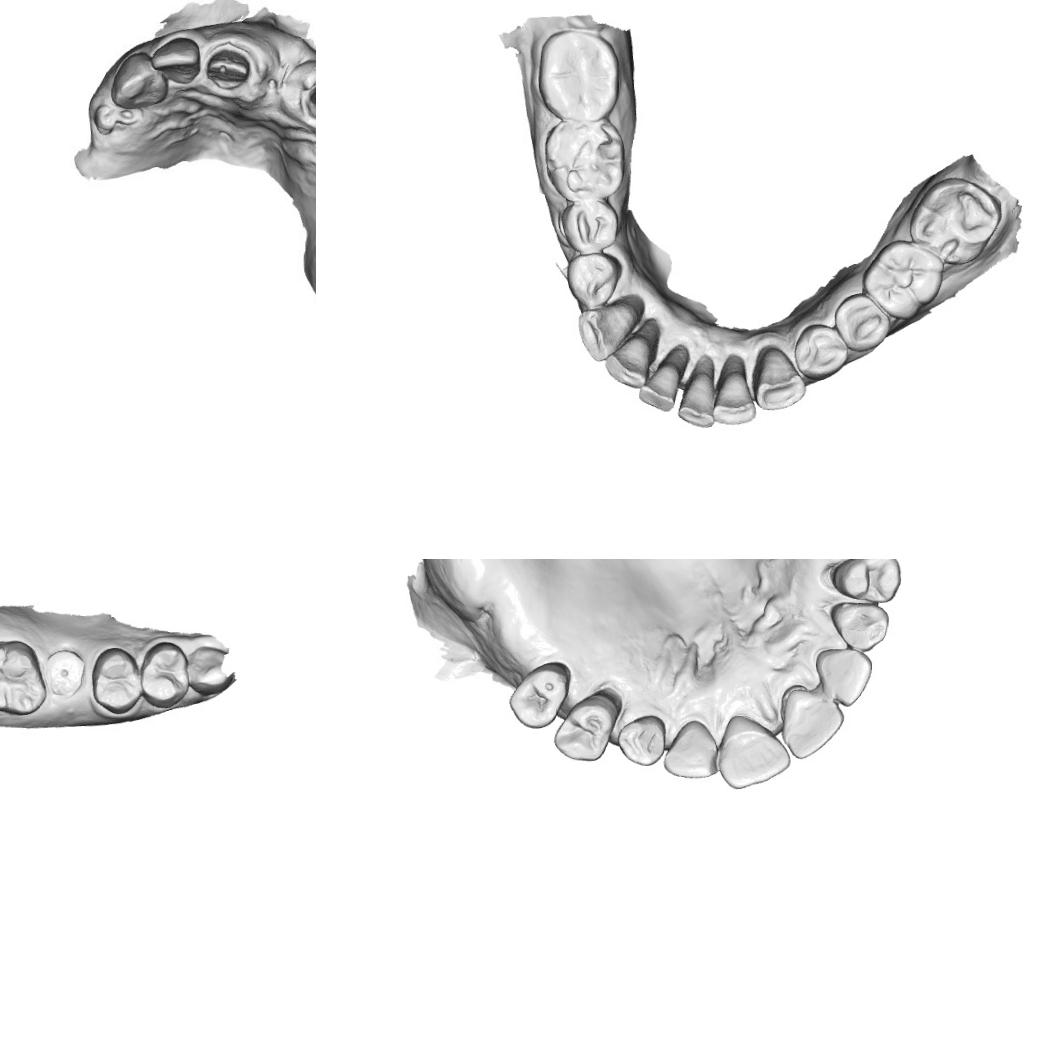canine: (576, 297, 643, 364), (752, 342, 808, 414), (822, 598, 894, 654), (109, 50, 170, 112), (614, 711, 668, 771), (186, 641, 237, 698)
crown: (202, 47, 252, 93), (306, 73, 316, 124)
implant: (44, 646, 86, 698)
incisor: (714, 710, 794, 792), (776, 686, 847, 762), (809, 645, 875, 709), (662, 715, 722, 784), (712, 361, 758, 430), (672, 364, 718, 430), (601, 336, 651, 390), (151, 34, 204, 84), (636, 362, 680, 415)
molar: (906, 176, 1004, 268), (535, 26, 622, 120), (540, 114, 630, 202), (860, 236, 948, 320), (0, 637, 48, 717)
premolar: (550, 692, 621, 765), (506, 663, 571, 732), (834, 290, 894, 355), (88, 646, 144, 715), (138, 640, 192, 709), (558, 197, 620, 255), (827, 559, 905, 605), (792, 320, 848, 382), (564, 252, 621, 308)
